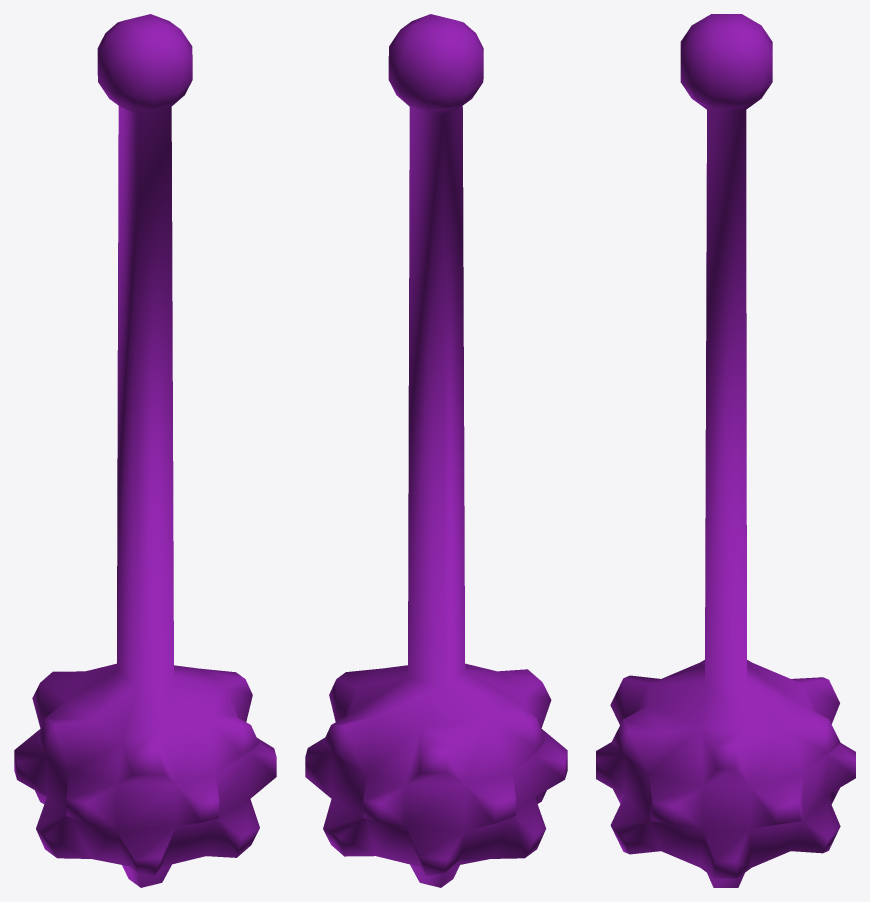
The model's file is pendulo.obj.
3 renders of one model, left to right at view 1: azimuth 30°, elevation 25°; view 2: azimuth 150°, elevation 25°; view 3: azimuth 270°, elevation 25°, orthographic.
Parts seen in each view (by area): view 1: Box001; view 2: Box001; view 3: Box001.
Boxes of the visible parts, x1,y1,x2,y2 form: Box001: (14,14,276,887); Box001: (305,14,567,887); Box001: (596,14,855,887).
Size of the model in its own units: 53.28 by 210 by 57.25.
